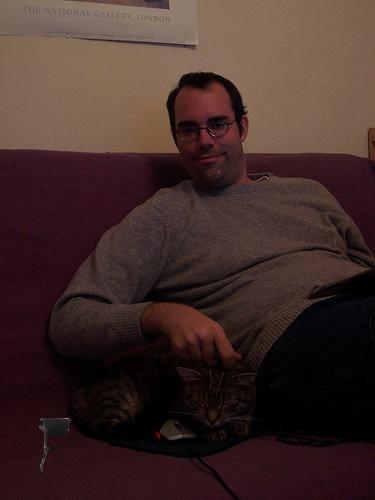tampered: (40, 419, 71, 472)
